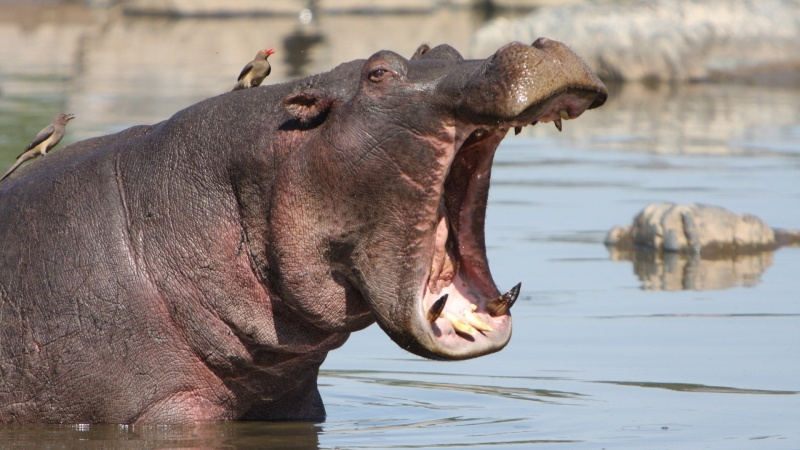hipopotamo: (0, 31, 609, 425)
